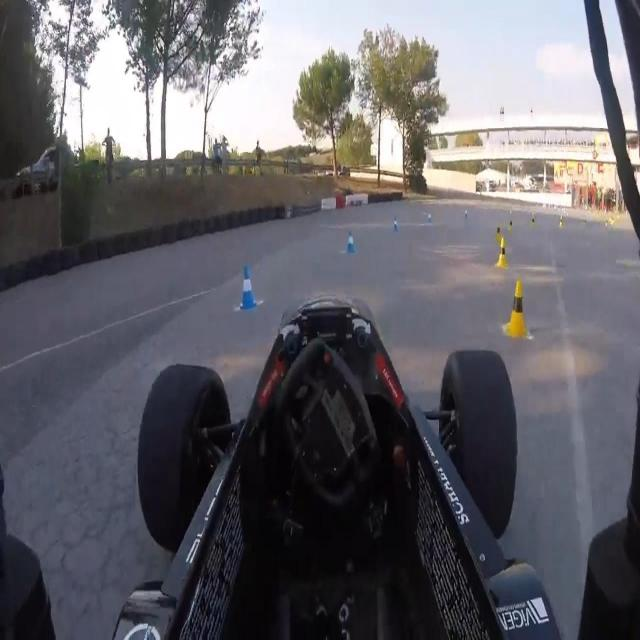blue_cone: (239, 266, 256, 310), (345, 229, 357, 255), (393, 216, 399, 232)
yellow_cone: (504, 278, 530, 338), (497, 238, 509, 269)
